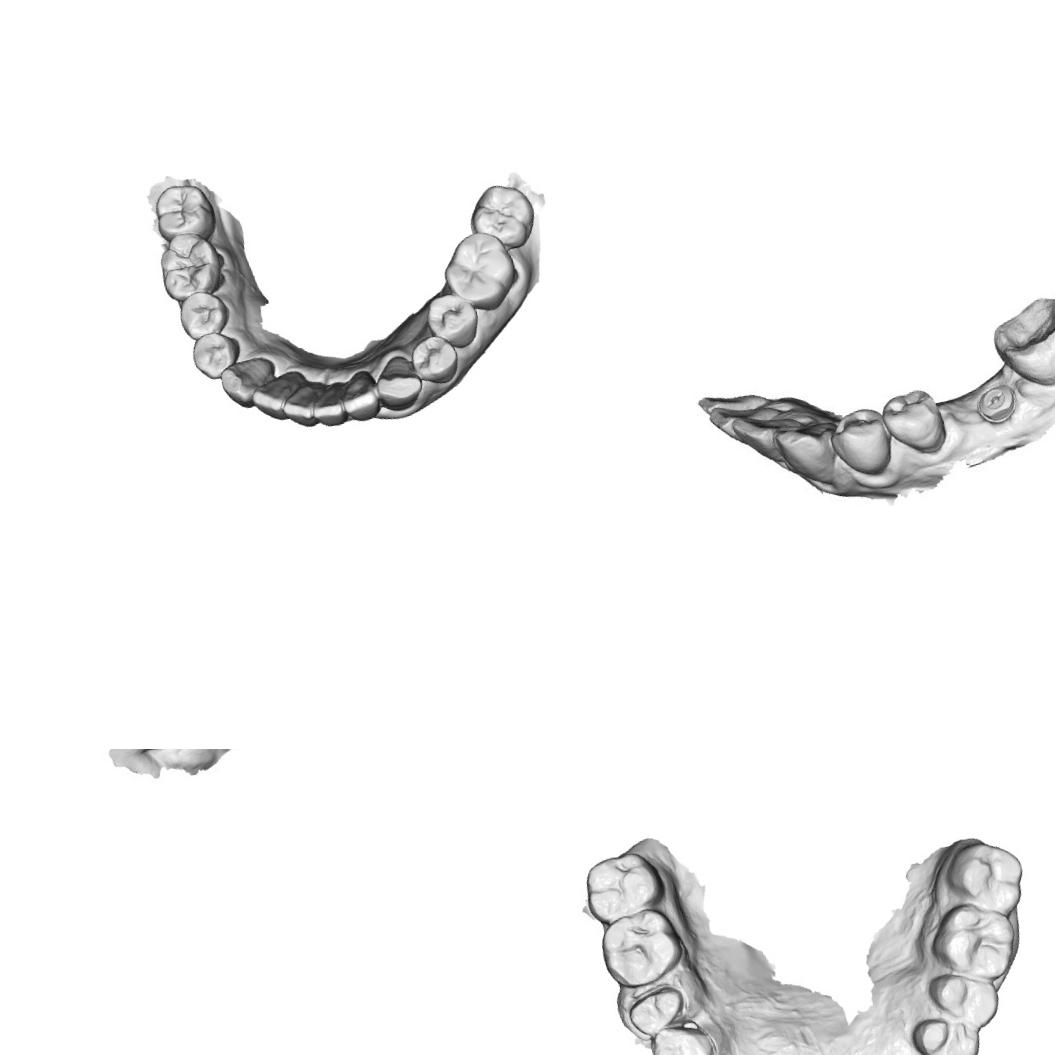canine: (774, 416, 848, 489), (214, 352, 282, 413), (368, 350, 427, 416)
crown: (622, 981, 689, 1043)
implant_minus: (971, 378, 1024, 430)
incisor: (732, 406, 796, 473), (247, 365, 314, 423), (334, 366, 384, 427), (706, 396, 761, 451), (273, 376, 324, 435), (304, 378, 354, 433)
molar: (924, 897, 1022, 991), (941, 832, 1034, 926), (594, 905, 690, 995), (436, 224, 524, 320), (576, 845, 668, 927), (984, 289, 1055, 394), (462, 176, 542, 258), (150, 224, 230, 306), (148, 176, 222, 246)
premolar: (877, 380, 953, 464), (925, 962, 1005, 1035), (827, 404, 894, 480), (420, 285, 485, 355), (907, 1006, 989, 1055), (172, 285, 236, 343), (186, 325, 246, 385), (405, 329, 465, 389), (645, 1018, 724, 1055)
